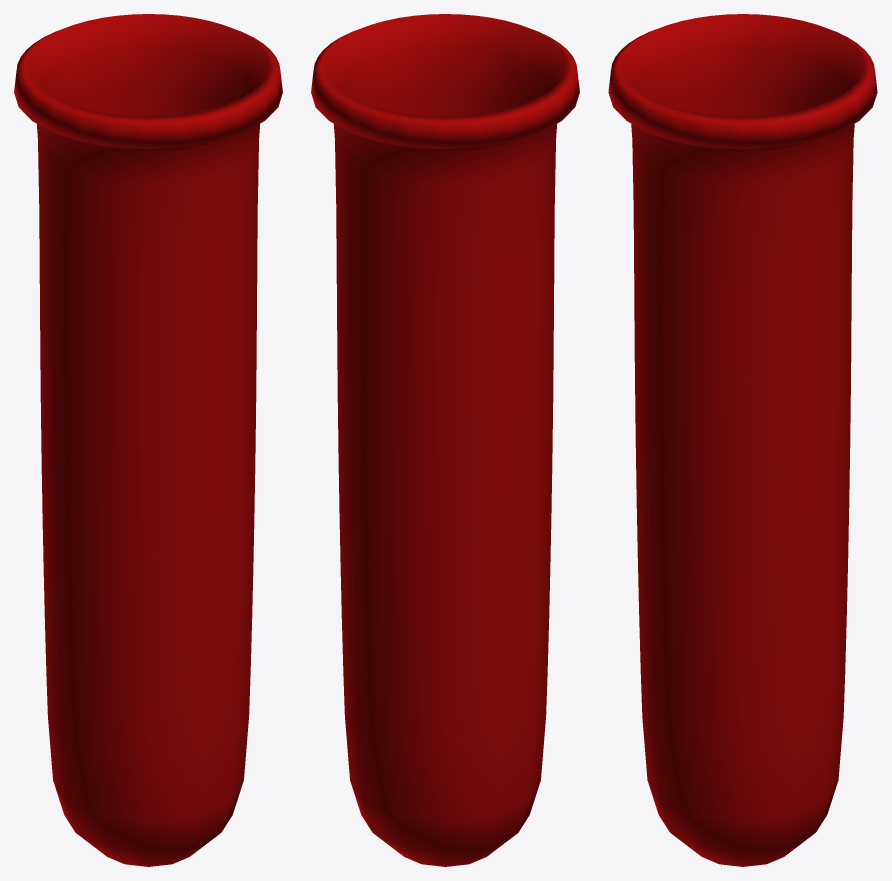
Rendered from TestTube1.fbx.
The picture shows the model from 3 angles, left to right: view 1: azimuth 30°, elevation 25°; view 2: azimuth 150°, elevation 25°; view 3: azimuth 270°, elevation 25°; orthographic projection.
Parts seen in each view (by area): view 1: TestTube1; view 2: TestTube1; view 3: TestTube1.
Boxes of the visible parts, x1,y1,x2,y2 form: TestTube1: (14,14,282,866); TestTube1: (311,14,579,866); TestTube1: (608,14,877,866).
Size of the model in its own units: 6.67 by 21.46 by 6.67.
